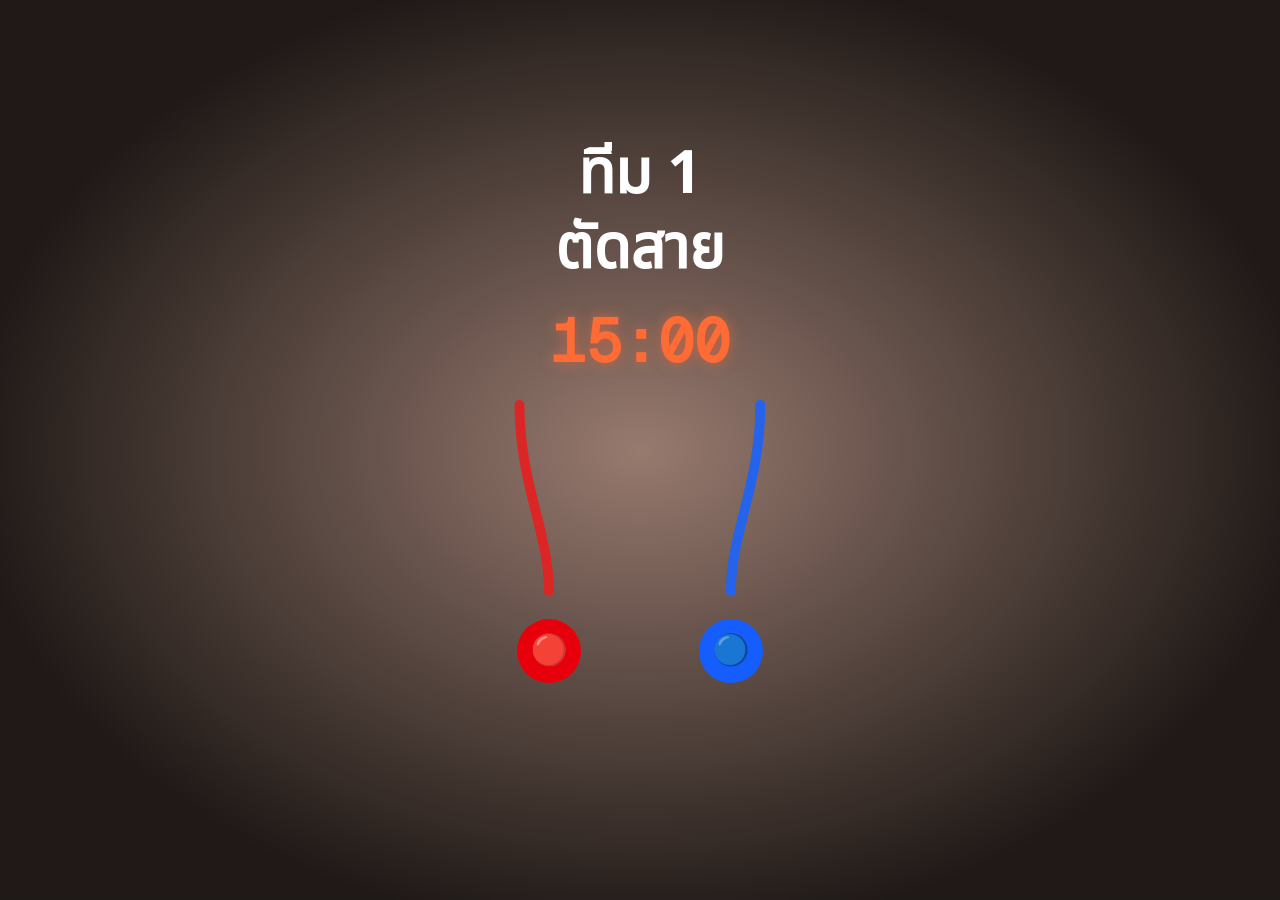
ชุดที่สาม #15: กดตัดสายแล้วเฉลยผลทันที ไม่มีช่วงหน่วง
Expected: the heading shows "ตัดสาย", [555, 204, 725, 295]
Click the button named "ตัดสายแดง": (549, 539) [490, 395, 608, 683]
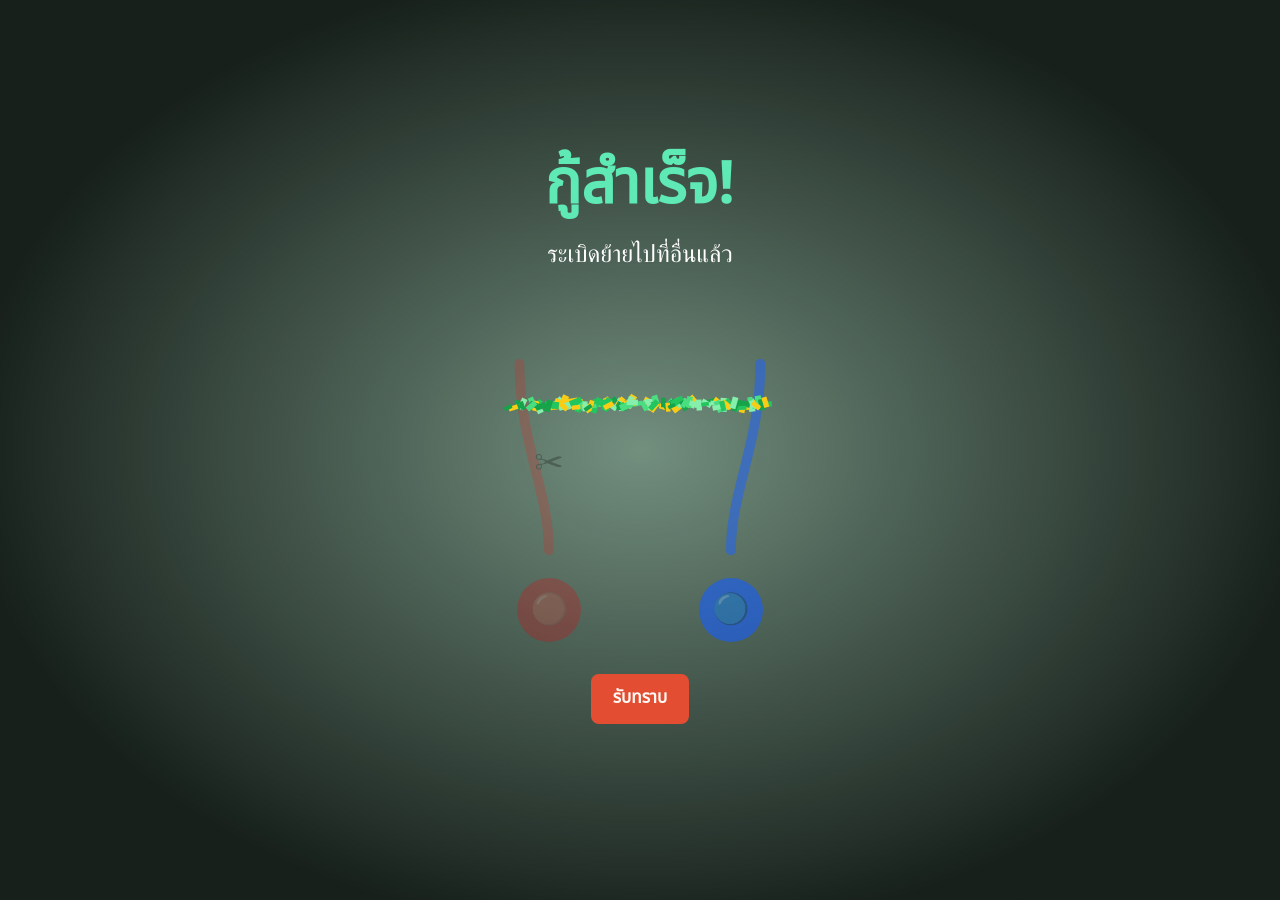
Expected: the heading "กู้สำเร็จ!" is shown, [545, 155, 735, 215]
Expected: the button "รับทราบ" is shown, [591, 674, 689, 724]
